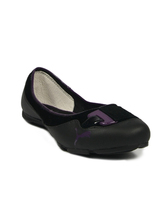clothoes: (18, 64, 154, 160)
